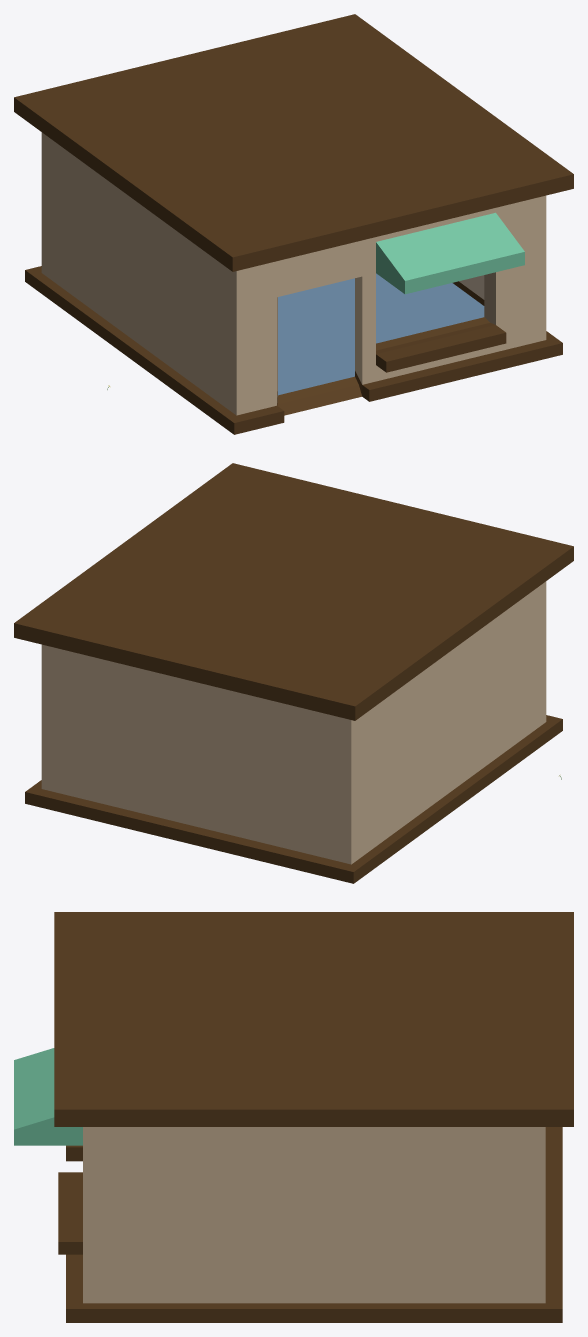
File: floristeria_final.fbx
3 renders of one model, top to bottom at view 1: azimuth 30°, elevation 25°; view 2: azimuth 150°, elevation 25°; view 3: azimuth 270°, elevation 25°, orthographic. The views are drawn at different scales.
Visible parts, largest first — view 1: EDIFICIO; view 2: EDIFICIO; view 3: EDIFICIO.
Part boxes in pixels (bbox=[...]): EDIFICIO: bbox=[14, 14, 573, 434]; EDIFICIO: bbox=[14, 463, 573, 883]; EDIFICIO: bbox=[14, 912, 573, 1322].
Size of the model in its own units: 2057 by 901 by 2111.
